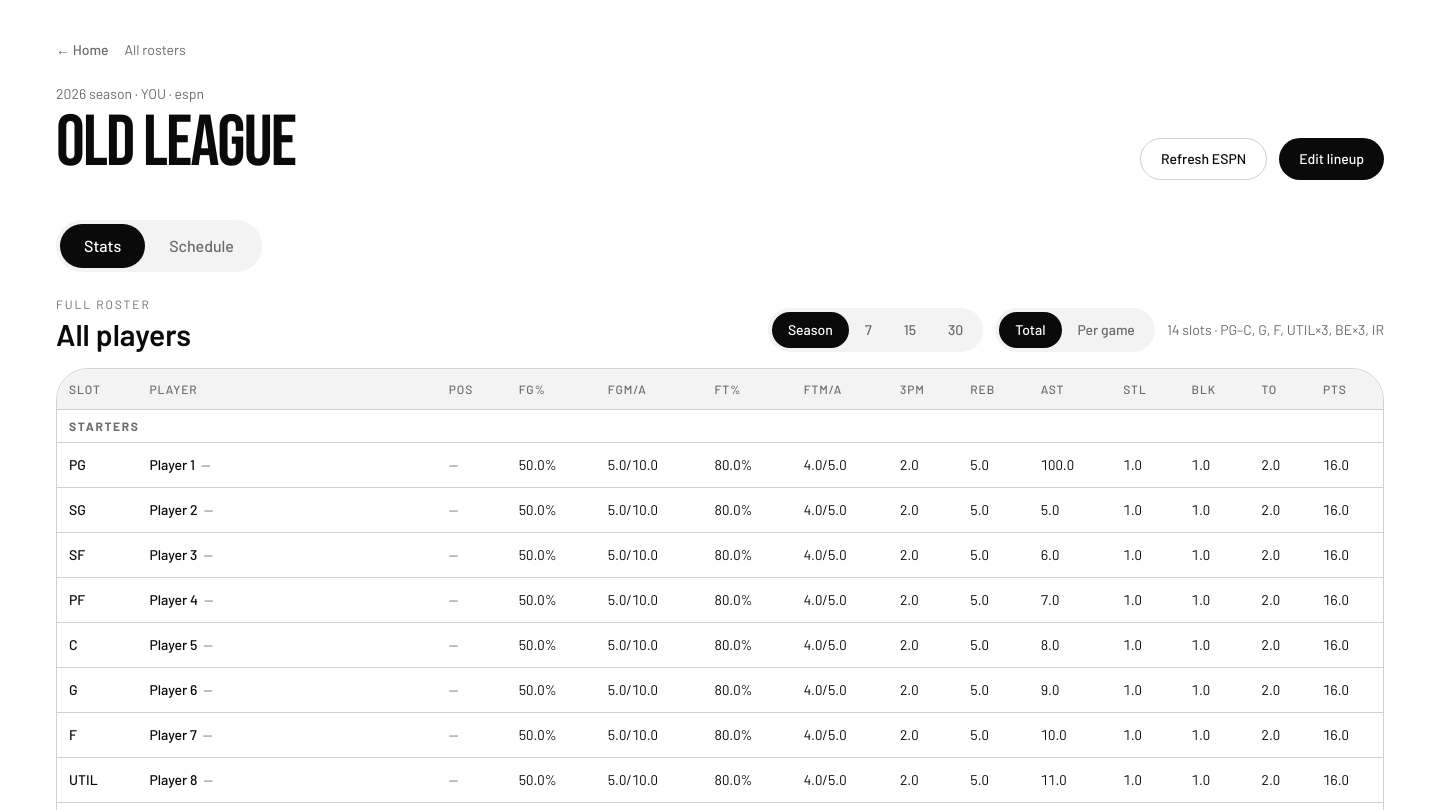
Test: SeasonRosterWorkspace › updates the nav league name after ESPN refresh
The image size is (1440, 810).
Click the button "Refresh ESPN" at (1204, 159), box [1140, 138, 1267, 180]
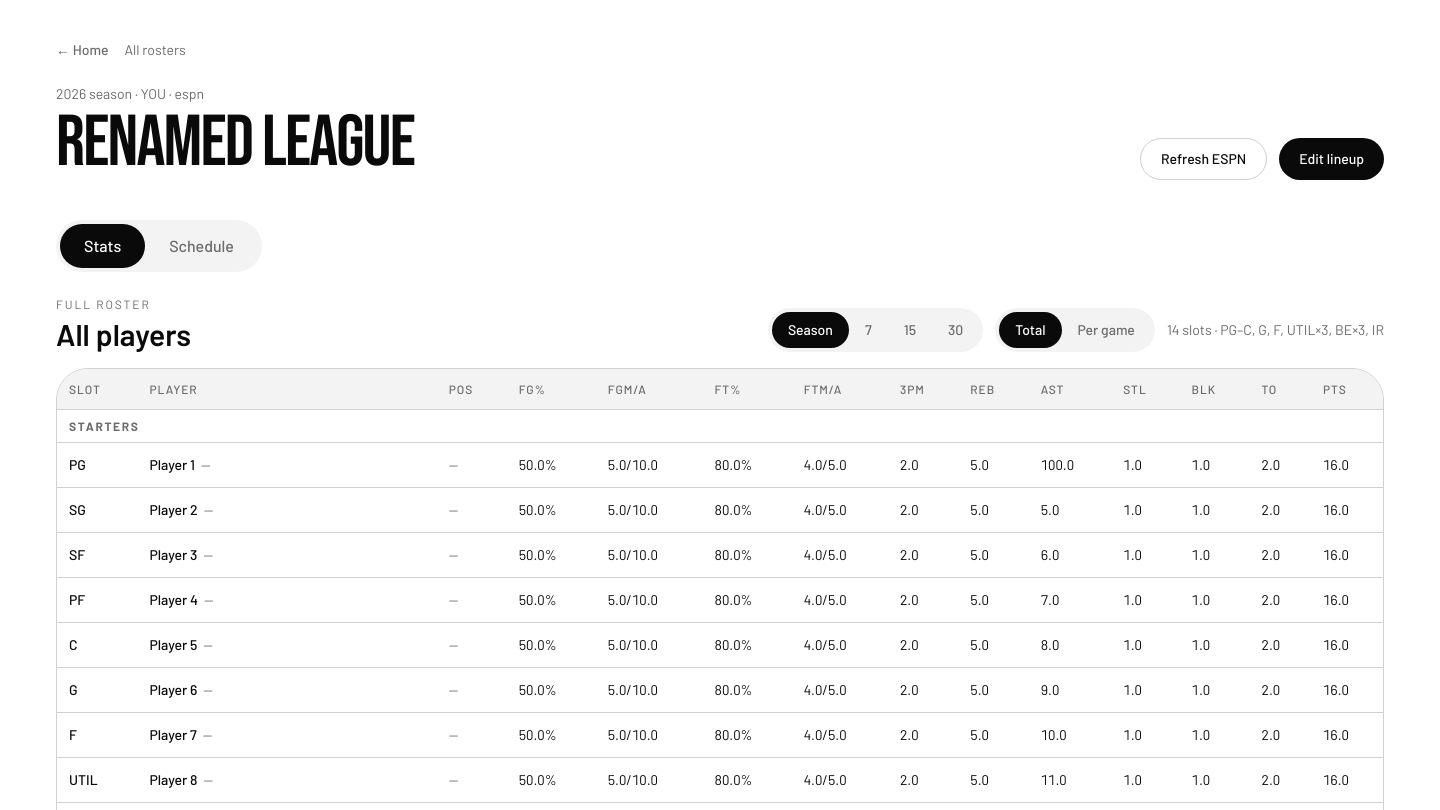
Expected: the heading "Renamed League" is shown, [56, 108, 414, 180]
